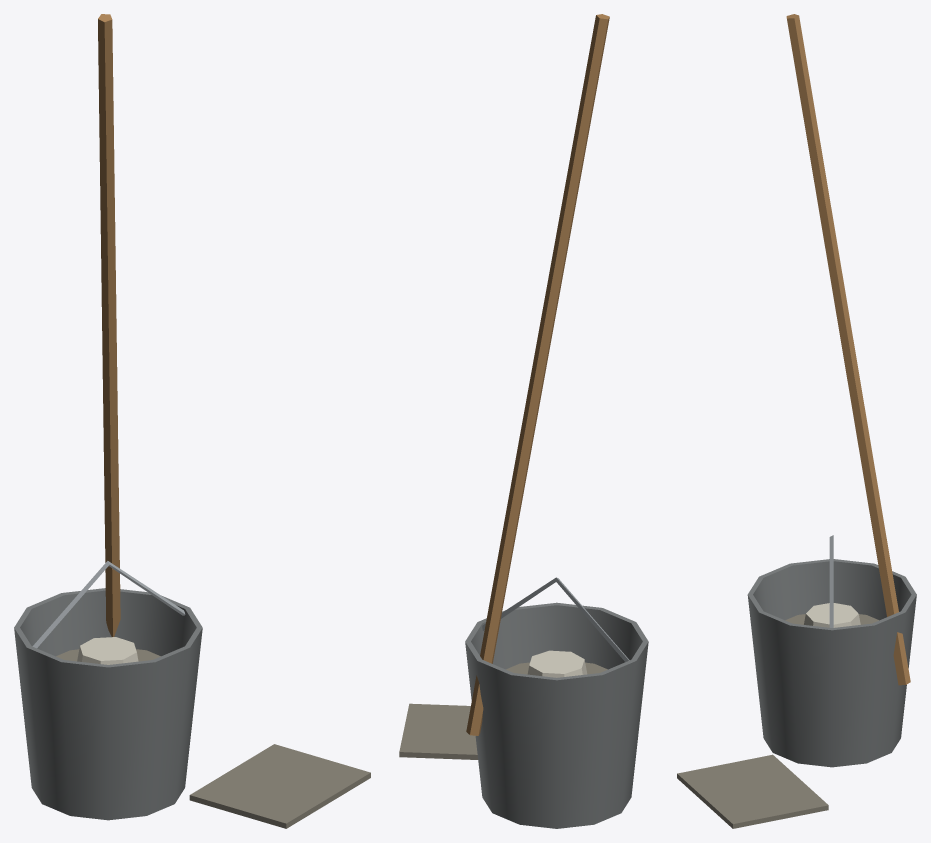
Rendered from mop_bucket.glb.
3 views of the same model, side by side, from view 1: azimuth 30°, elevation 25°; view 2: azimuth 150°, elevation 25°; view 3: azimuth 270°, elevation 25° (orthographic). The views are drawn at different scales.
Parts seen in each view (by area): view 1: MopBucket; view 2: MopBucket; view 3: MopBucket.
Part boxes in pixels (box(x1,y1,x2,y2)): MopBucket: box(14, 14, 370, 828); MopBucket: box(399, 14, 648, 828); MopBucket: box(677, 14, 916, 828).
Size of the model in its own units: 0.5656 by 1.49 by 0.4535.
